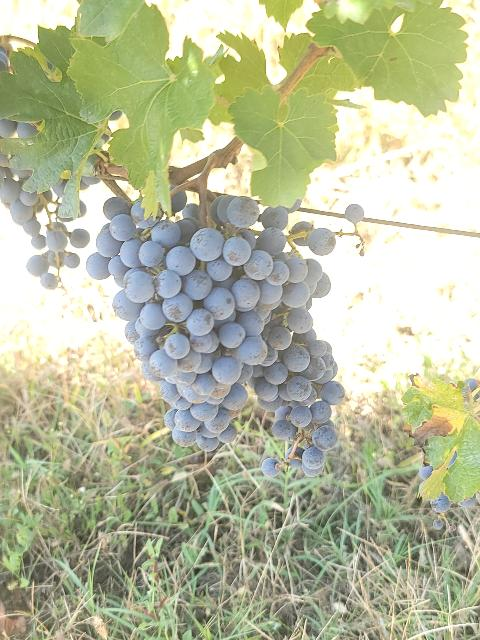grapes: (86, 196, 310, 450), (251, 259, 345, 478), (0, 165, 90, 289), (0, 119, 39, 140)
